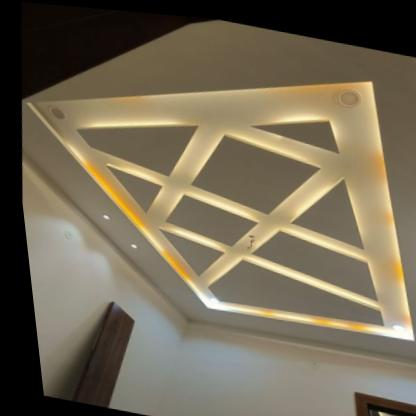Gypsum Board: (1, 12, 416, 364)
